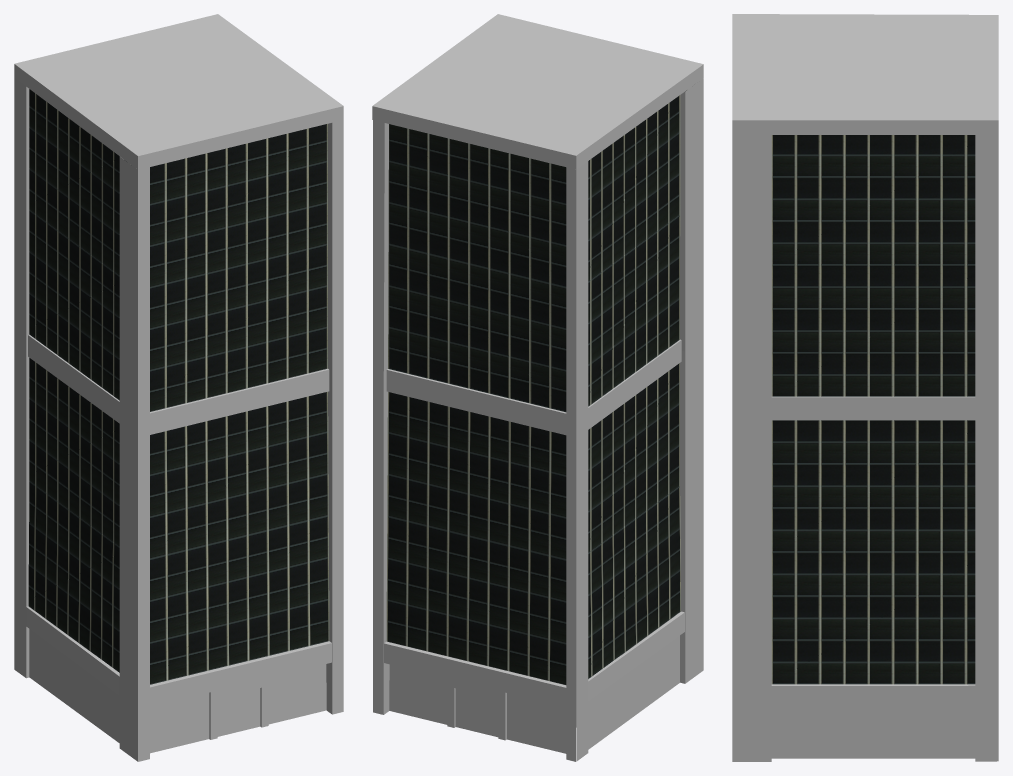
3 views of the same model, side by side, from view 1: azimuth 30°, elevation 25°; view 2: azimuth 150°, elevation 25°; view 3: azimuth 270°, elevation 25° (orthographic). The views are drawn at different scales.
Parts seen in each view (by area): view 1: BB-088; view 2: BB-088; view 3: BB-088.
Boxes of the visible parts, x1,y1,x2,y2 form: BB-088: (14, 14, 343, 761); BB-088: (372, 14, 703, 761); BB-088: (732, 14, 998, 761).
Size of what is drawn, in the model's own units: 15.06 by 42.39 by 15.95.
